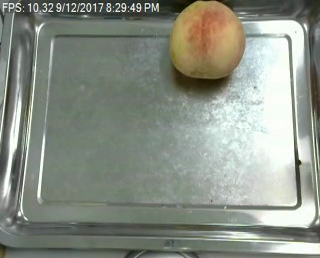Peach: (169, 0, 246, 80)
